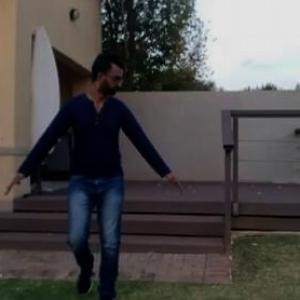land: (1, 45, 194, 299)
